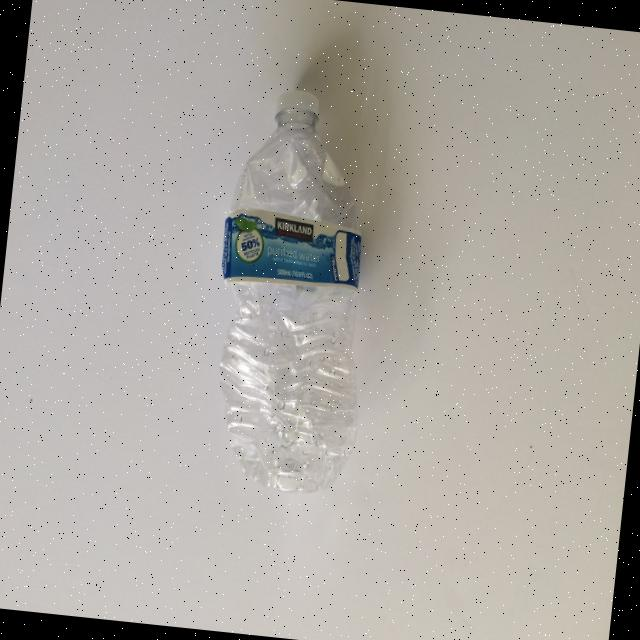plastic: (197, 82, 391, 498)
